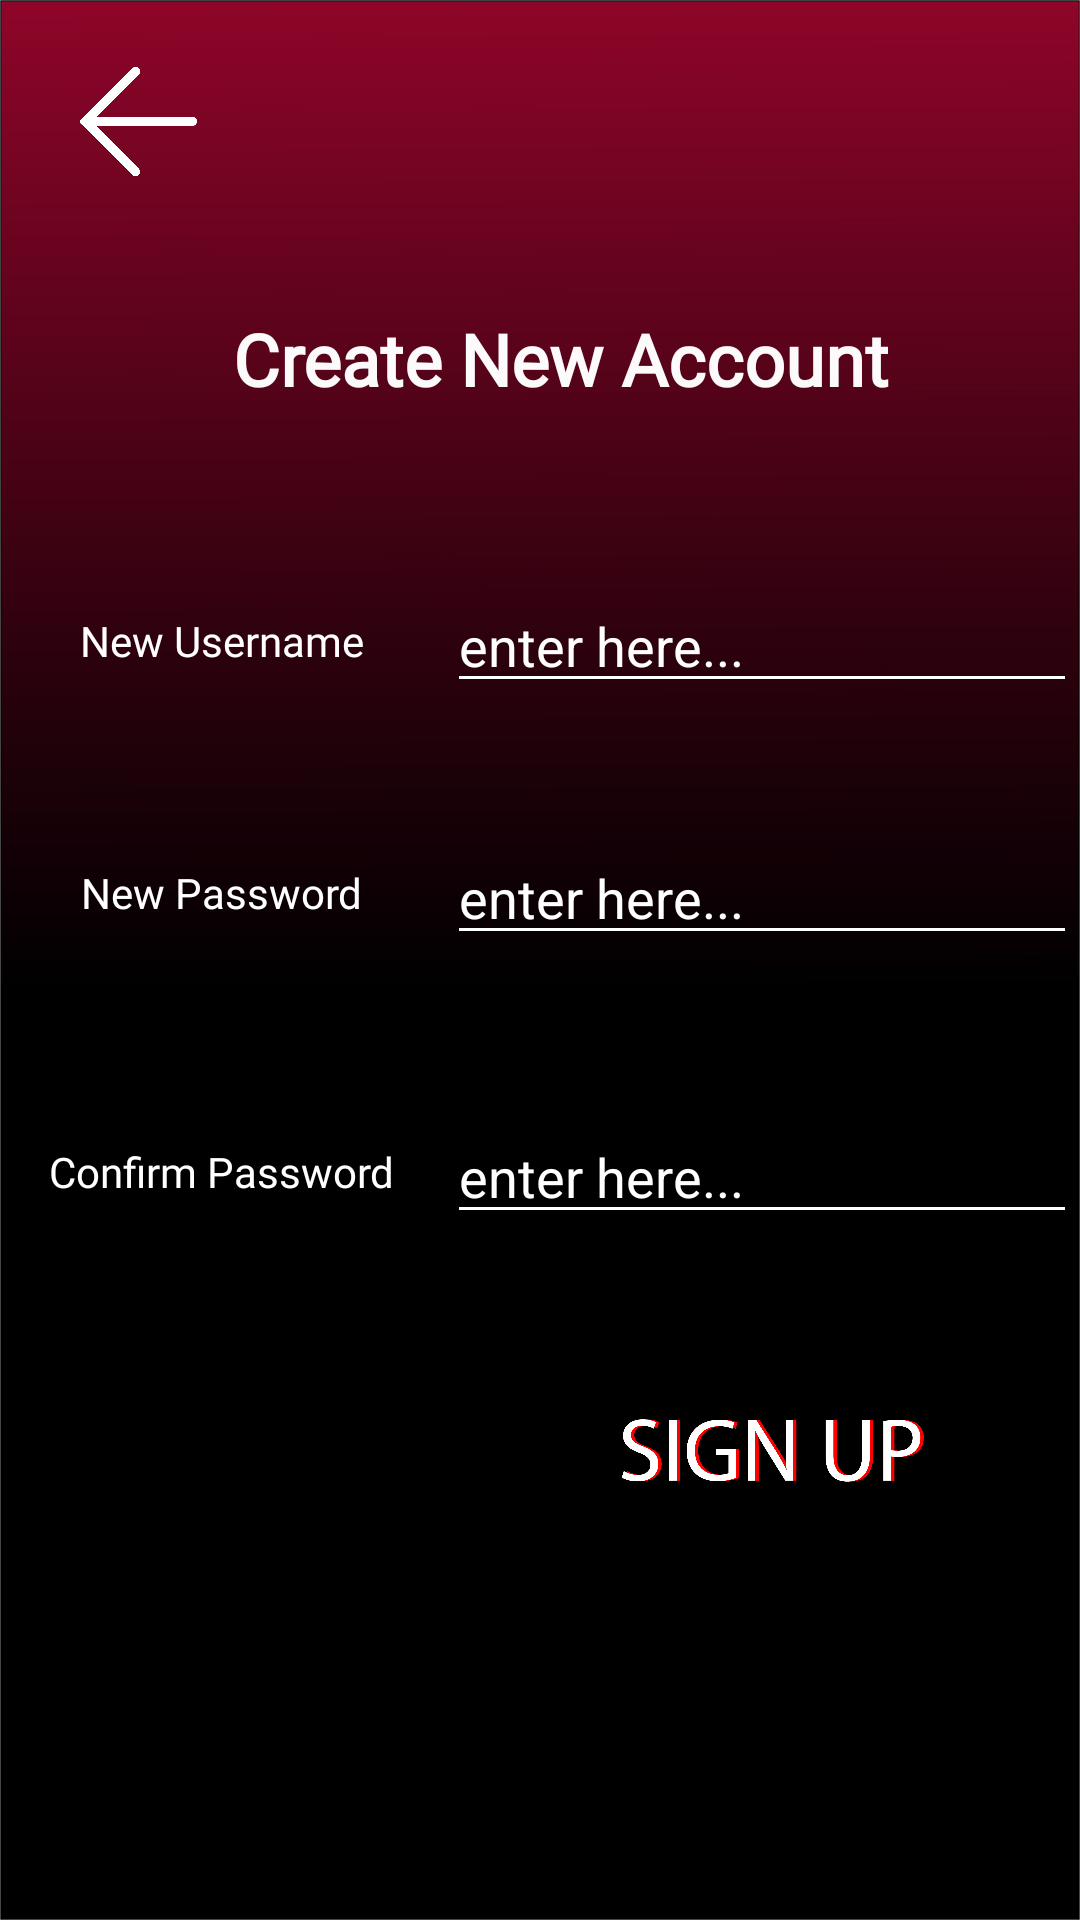

Icon click points for this 1080 × 1920 phone screenshot, format (x=x, y=y):
back: (x=138, y=121)
